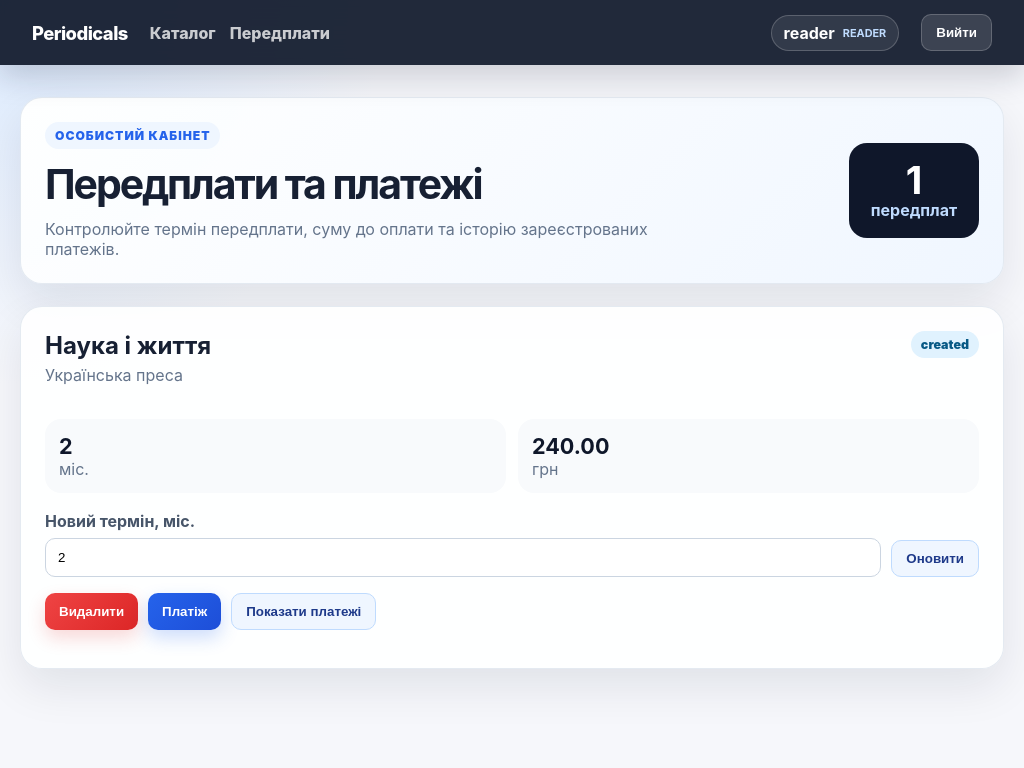
App routing and auth › renders subscription month editor and payment status controls
The image size is (1024, 768).
Expected: the button "Оновити" is shown, [891, 540, 979, 577]
What coordinates should you click on to do the following:
click the button "Показати платежі"
I would click on:
 (304, 612)
Its box is [231, 593, 376, 630].
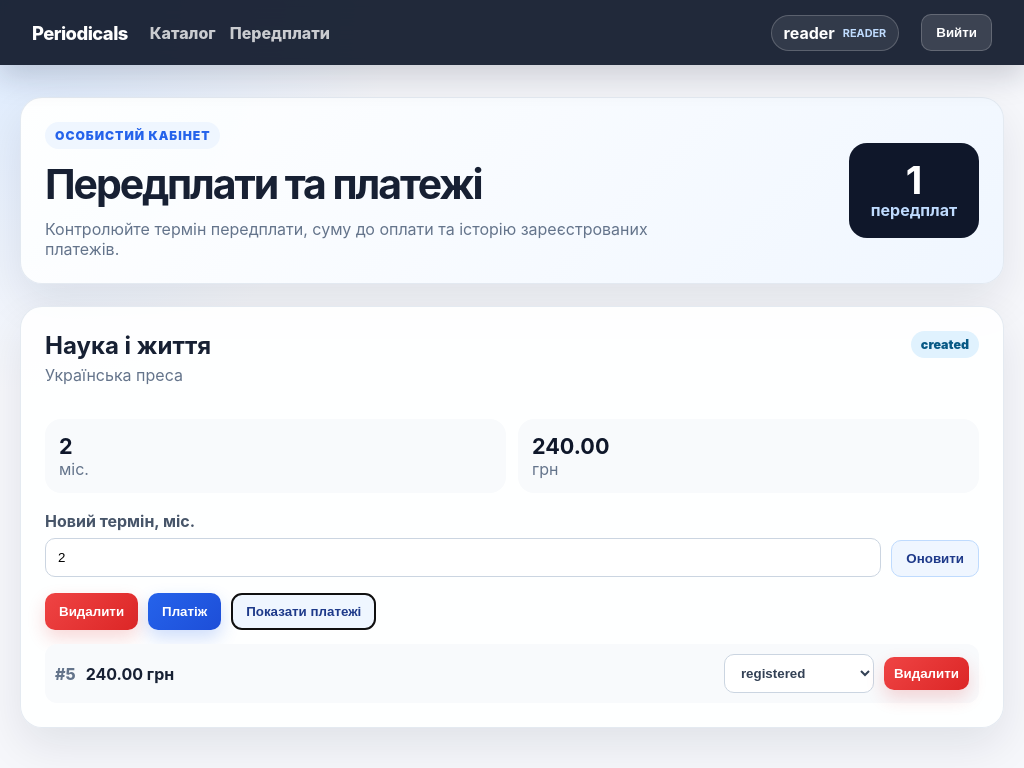
Now the dropdown named "Статус платежу 5" is shown, box [724, 654, 874, 693]
